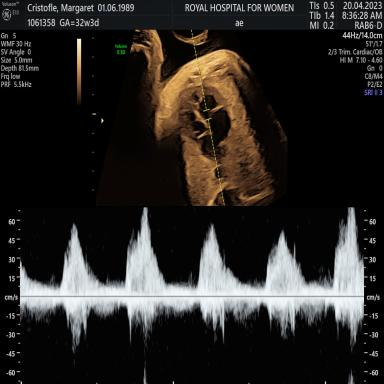Ultrasound-Waves: (24, 209, 362, 384)
